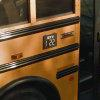Bus: (2, 8, 94, 100)
